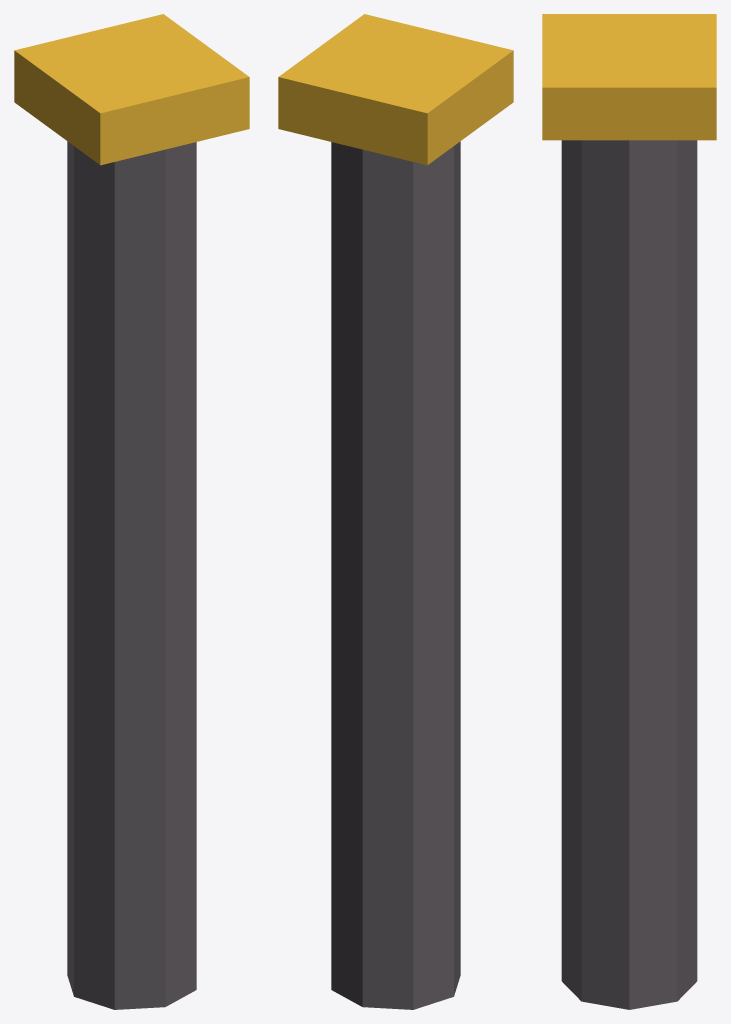
Rendered from Bld_OR_Pillar_08.glb.
3 renders of one model, left to right at view 1: azimuth 30°, elevation 25°; view 2: azimuth 150°, elevation 25°; view 3: azimuth 270°, elevation 25°, orthographic.
Parts seen in each view (by area): view 1: Bld_OR_Pillar_08; view 2: Bld_OR_Pillar_08; view 3: Bld_OR_Pillar_08.
Boxes of the visible parts, x1=… form: Bld_OR_Pillar_08: x1=14, y1=14, x2=249, y2=1009; Bld_OR_Pillar_08: x1=278, y1=14, x2=513, y2=1009; Bld_OR_Pillar_08: x1=542, y1=14, x2=716, y2=1009.
Bounding box in the file's own units: 0.9 × 5.3 × 0.9.
